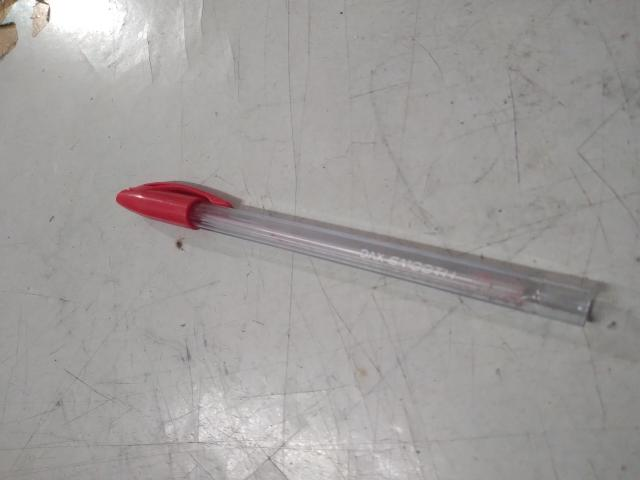PEN: (160, 105, 294, 480)
